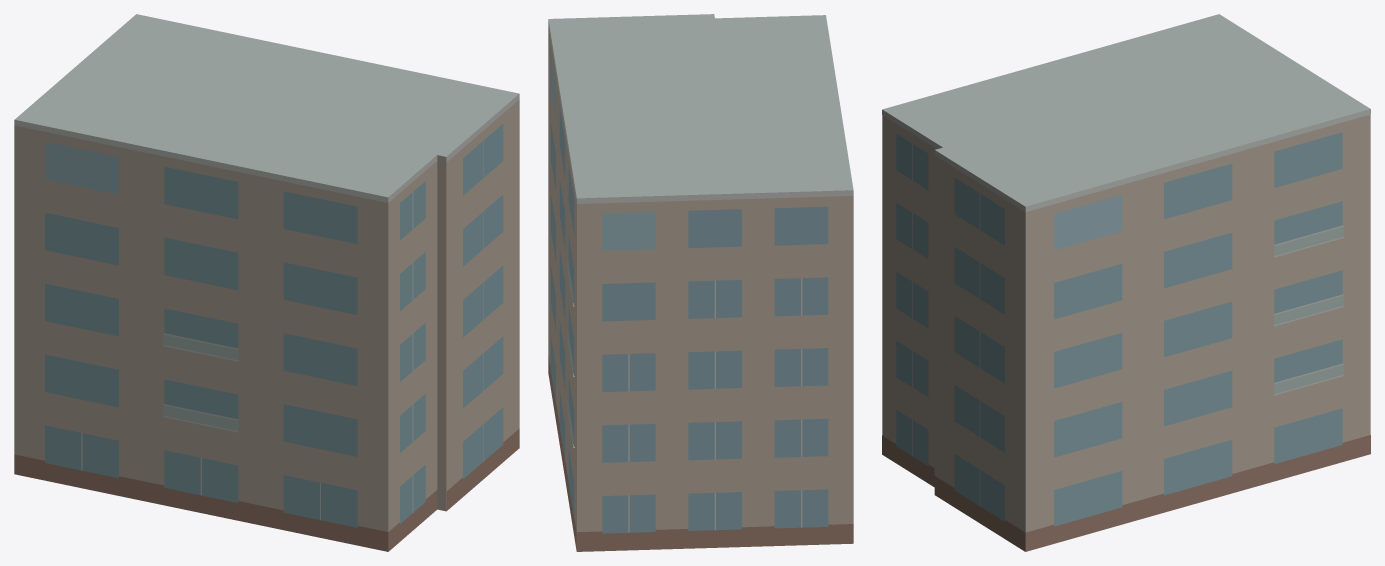
The model's file is survey-upis-33014376.glb.
3 views of the same model, side by side, from view 1: azimuth 30°, elevation 25°; view 2: azimuth 150°, elevation 25°; view 3: azimuth 270°, elevation 25° (orthographic). The views are drawn at different scales.
Parts seen in each view (by area): view 1: survey-upis-33014376.tmp; view 2: survey-upis-33014376.tmp; view 3: survey-upis-33014376.tmp.
Boxes of the visible parts, x1=… form: survey-upis-33014376.tmp: x1=14, y1=14, x2=519, y2=551; survey-upis-33014376.tmp: x1=548, y1=14, x2=853, y2=551; survey-upis-33014376.tmp: x1=882, y1=14, x2=1370, y2=551.
Size of the model in its own units: 18.27 by 15.25 by 19.57.
